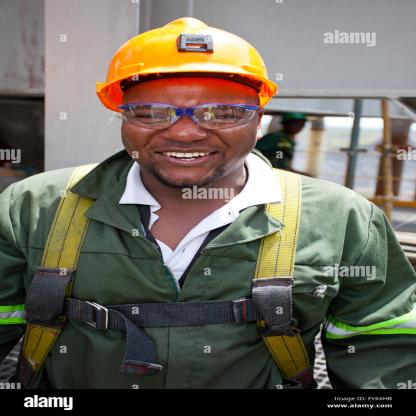oculos: (118, 103, 265, 131)
